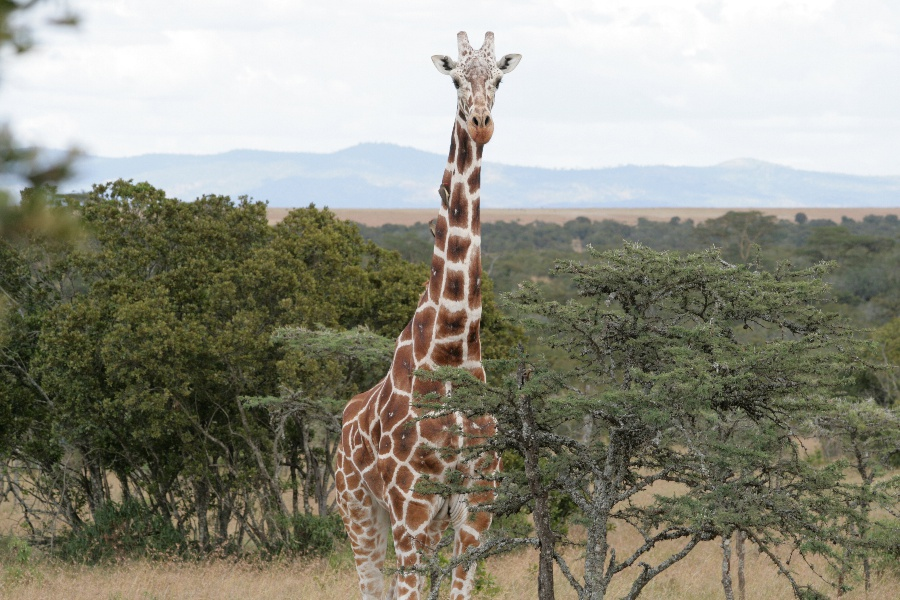giraffe: (312, 19, 524, 598)
